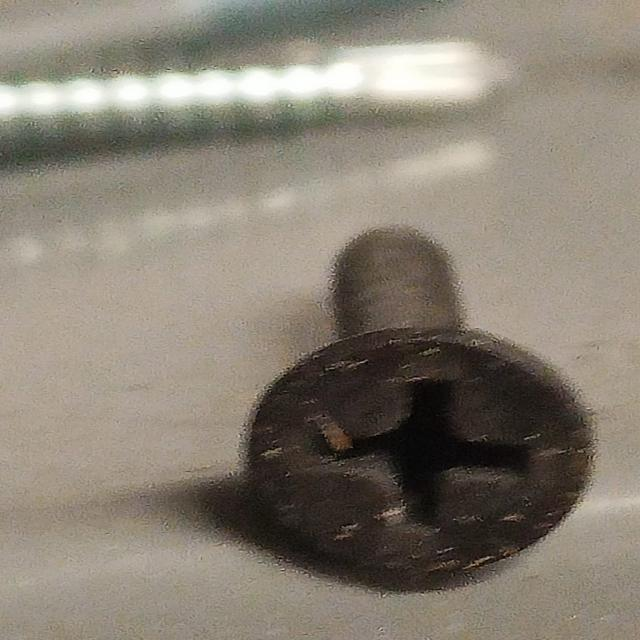phillips: (239, 324, 592, 584)
